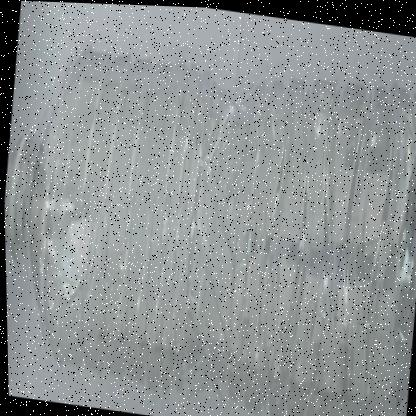open bottle: (1, 1, 131, 408)
